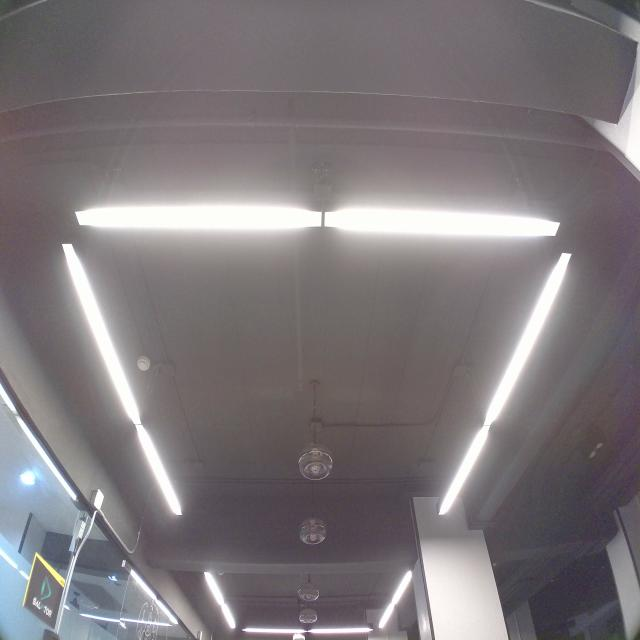lamp2_on: (428, 249, 583, 524), (53, 235, 192, 523), (69, 193, 576, 248)
